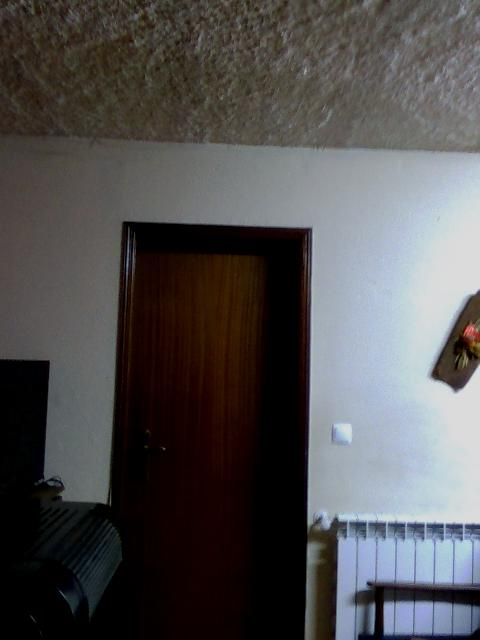closed_door: (110, 222, 311, 638)
